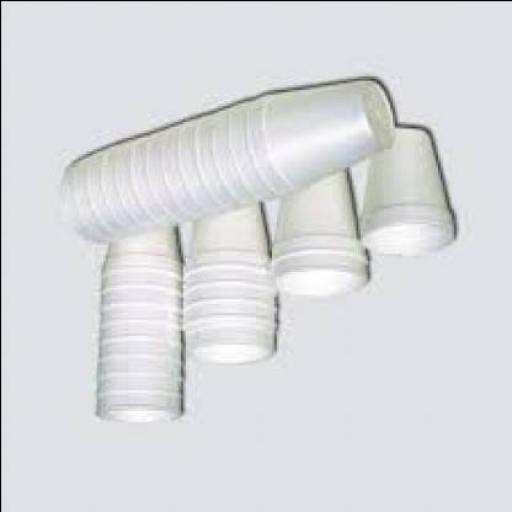paper: (54, 75, 392, 246), (239, 80, 391, 202), (91, 230, 180, 424), (180, 200, 278, 366), (357, 127, 455, 257), (271, 166, 369, 296), (268, 166, 364, 264), (180, 205, 268, 277), (98, 232, 180, 282)
